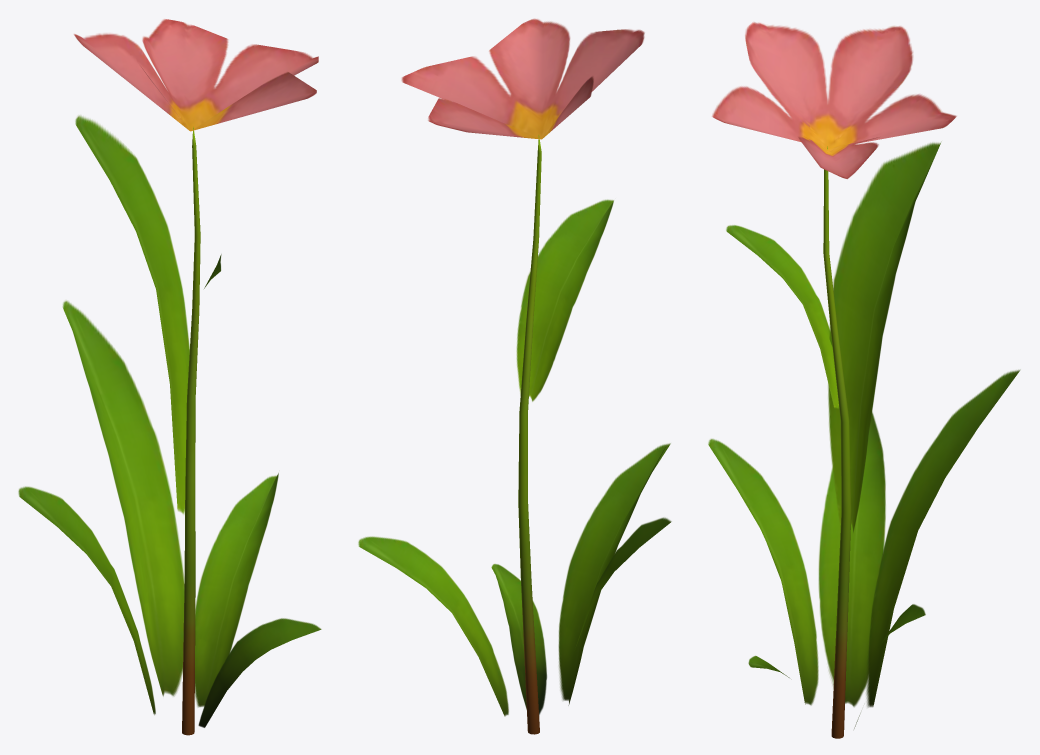
File: flower-single.glb
The picture shows the model from 3 angles, left to right: view 1: azimuth 30°, elevation 25°; view 2: azimuth 150°, elevation 25°; view 3: azimuth 270°, elevation 25°; orthographic projection. The views are drawn at different scales.
Visible parts, largest first — view 1: Flower_3_Single; view 2: Flower_3_Single; view 3: Flower_3_Single.
Boxes of the visible parts, <box> form: Flower_3_Single: <box>18,19,321,735</box>; Flower_3_Single: <box>358,18,671,734</box>; Flower_3_Single: <box>708,22,1019,738</box>.
Size of the model in its own units: 0.9066 by 2.07 by 0.8775.
2 materials, 2 textured.
